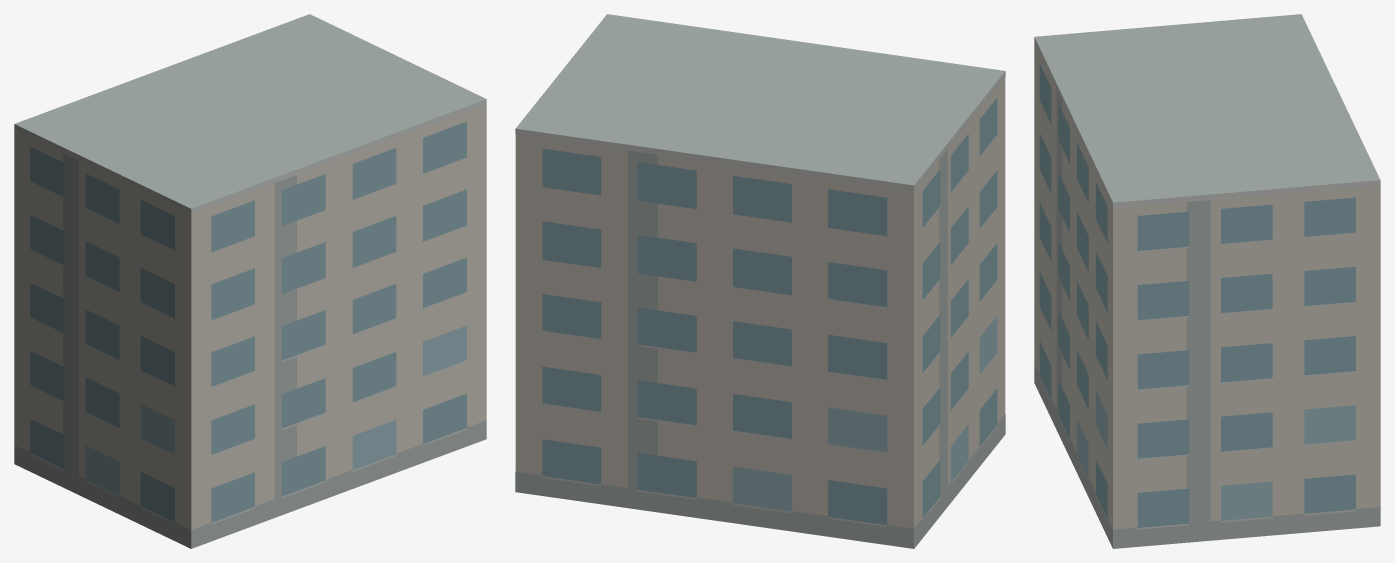
File: residential-b9f5c23a-c103-410a-9921-29c963a66e6b.glb
3 views of the same model, side by side, from view 1: azimuth 30°, elevation 25°; view 2: azimuth 150°, elevation 25°; view 3: azimuth 270°, elevation 25° (orthographic). The views are drawn at different scales.
Visible parts, largest first — view 1: residential-b9f5c23a-c103-410a-9921-29c963a66e6b.tmp; view 2: residential-b9f5c23a-c103-410a-9921-29c963a66e6b.tmp; view 3: residential-b9f5c23a-c103-410a-9921-29c963a66e6b.tmp.
Boxes of the visible parts, left/top/right/bottom form: residential-b9f5c23a-c103-410a-9921-29c963a66e6b.tmp: left=14, top=14, right=486, bottom=548; residential-b9f5c23a-c103-410a-9921-29c963a66e6b.tmp: left=515, top=14, right=1005, bottom=548; residential-b9f5c23a-c103-410a-9921-29c963a66e6b.tmp: left=1034, top=14, right=1380, bottom=548.
Size of the model in its own units: 17.83 by 15.25 by 13.83.
